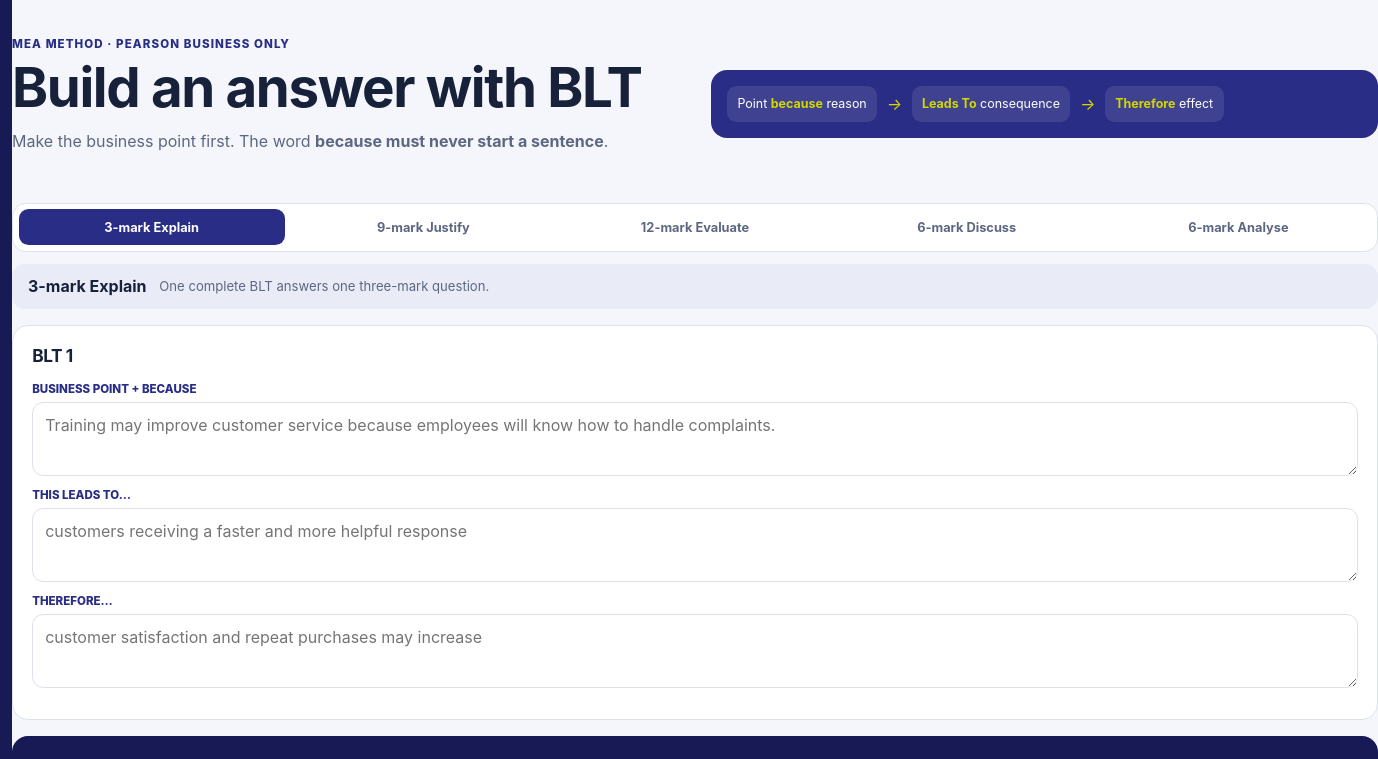
Test: BLT validation › accepts a point followed by because
The image size is (1378, 759).
Replace the text in the text box labelled "Business point + because" with "Training may improve service because staff understand complaints.". click: (695,439)
box: [32,402,1358,476]
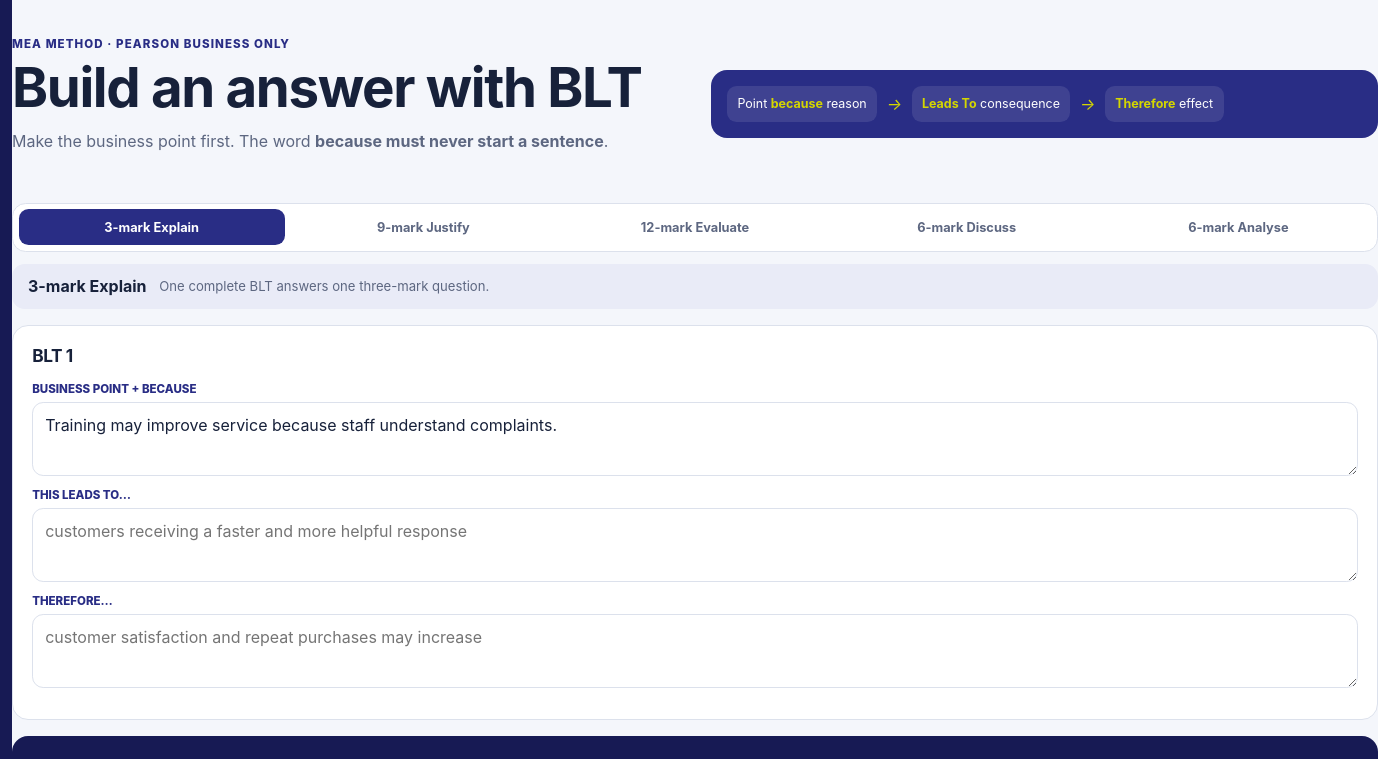
Type "customers receiving quicker support" into the text box labelled "This leads to…". click: (695,545)
box: [32,508,1358,582]
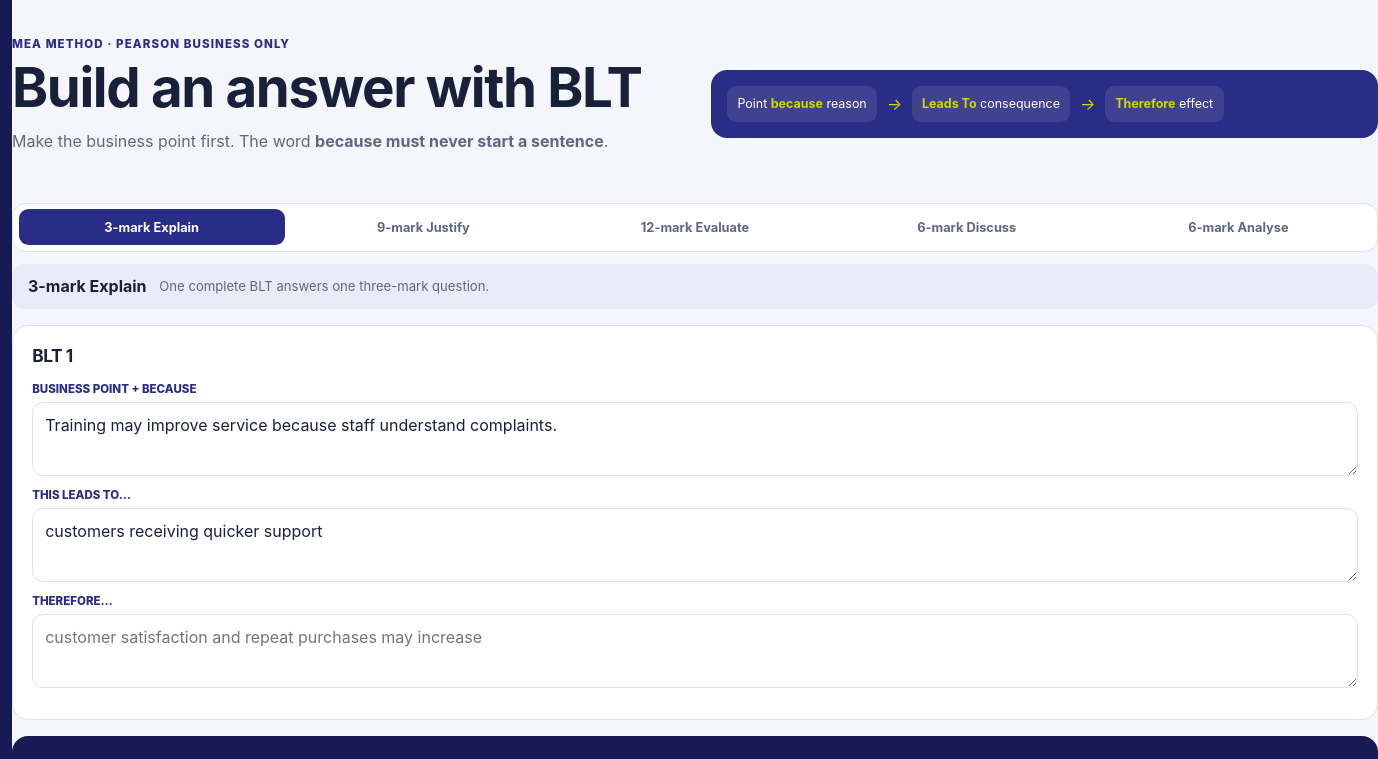
Type "repeat purchases may increase" into the text box labelled "Therefore…". click: (695,651)
box: [32,614,1358,688]
(page scrolled)
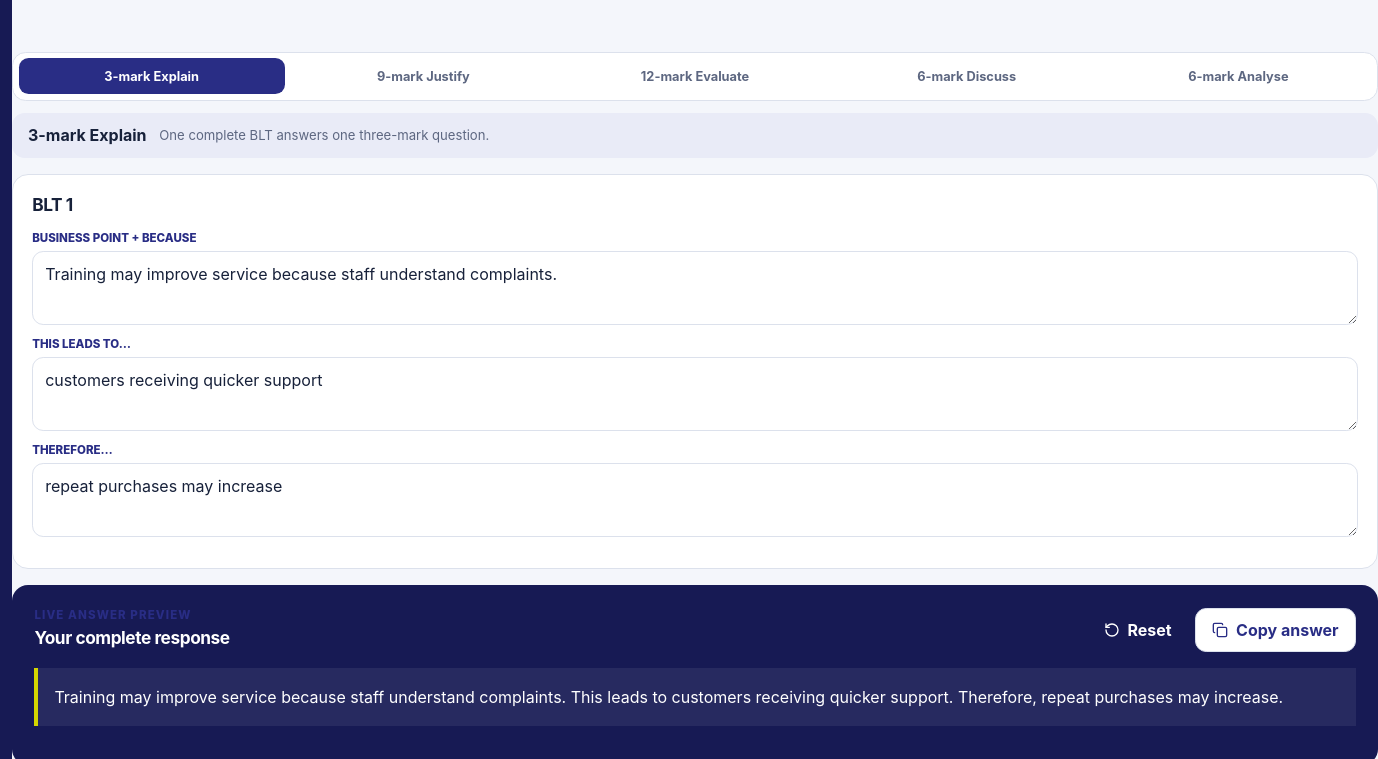
Result: the button "Copy answer" is enabled at [1195,608,1356,652]
